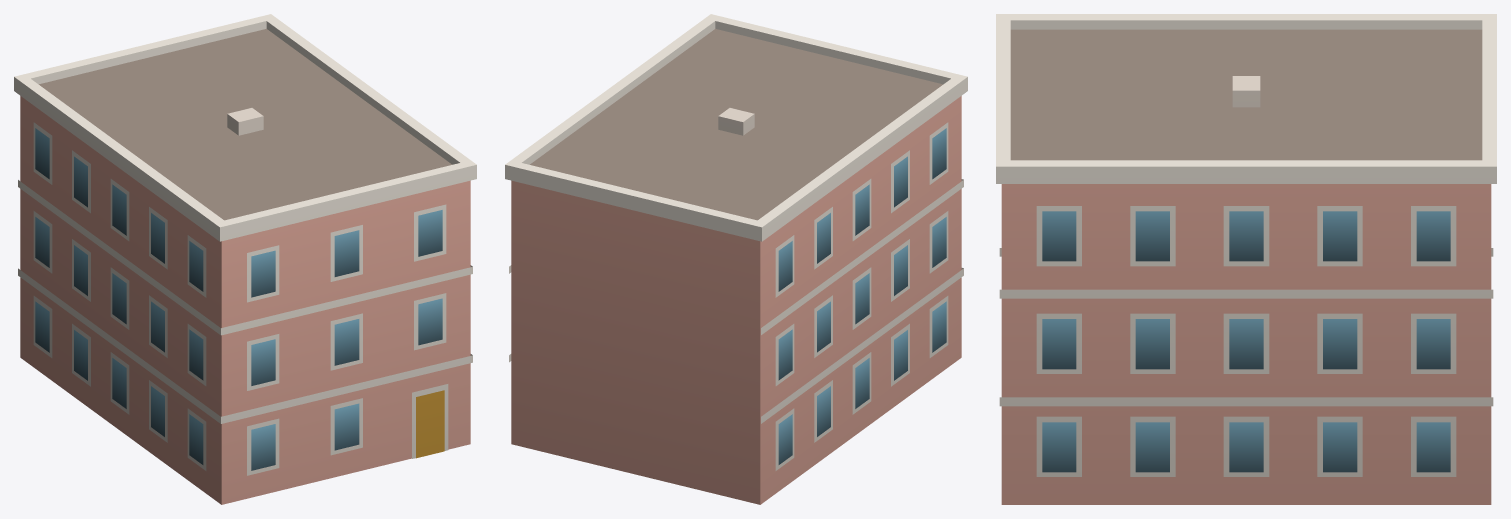
File: boylston_s5_far.glb
3 views of the same model, side by side, from view 1: azimuth 30°, elevation 25°; view 2: azimuth 150°, elevation 25°; view 3: azimuth 270°, elevation 25° (orthographic). The views are drawn at different scales.
Parts seen in each view (by area): view 1: boylston_s5_far; view 2: boylston_s5_far; view 3: boylston_s5_far.
Boxes of the visible parts, left/top/right/bottom form: boylston_s5_far: left=14, top=14, right=476, bottom=504; boylston_s5_far: left=505, top=14, right=967, bottom=504; boylston_s5_far: left=996, top=14, right=1496, bottom=504.
Bounding box in the file's own units: 10.32 × 10.97 × 14.32.
Materials: 1 (1 with a texture image).
